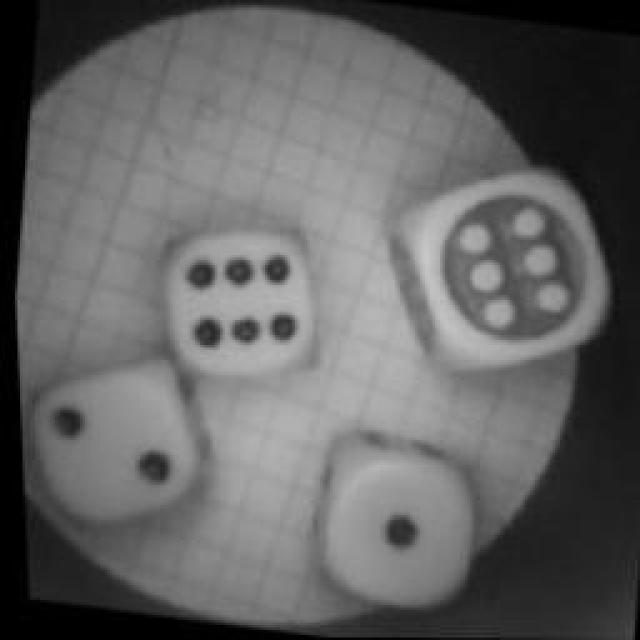dice_1: (302, 432, 488, 620)
dice_2: (13, 343, 228, 555)
dice_6: (374, 151, 628, 394), (132, 211, 332, 401)
